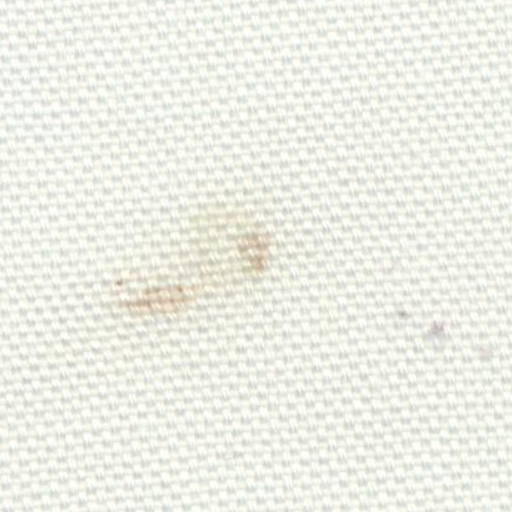WuZi: (106, 184, 292, 343), (389, 294, 501, 371)
